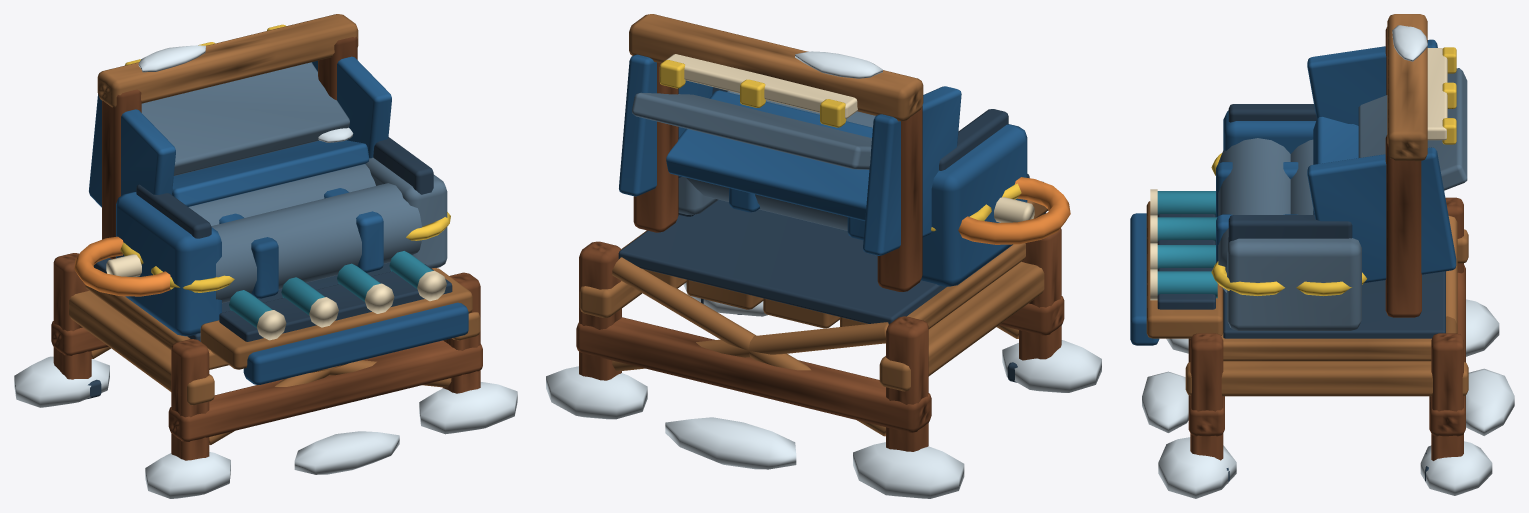
The model's file is intake_machine.glb.
The picture shows the model from 3 angles, left to right: view 1: azimuth 30°, elevation 25°; view 2: azimuth 150°, elevation 25°; view 3: azimuth 270°, elevation 25°; orthographic projection. The views are drawn at different scales.
Visible parts, largest first — view 1: intake_machine; view 2: intake_machine; view 3: intake_machine.
Part boxes in pixels (x1,y1,x2,y2): intake_machine: [14, 14, 517, 498]; intake_machine: [546, 14, 1101, 498]; intake_machine: [1130, 14, 1514, 498].
Size of the model in its own units: 2.5 by 2.12 by 2.11.
